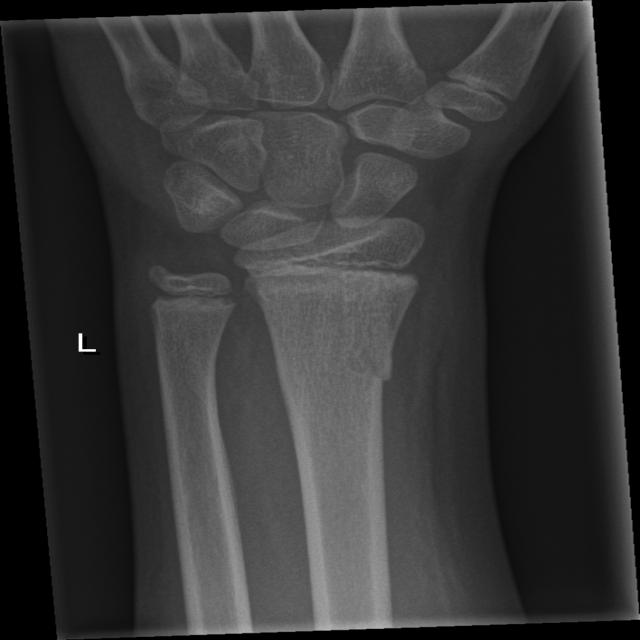radius fracture: (324, 311, 442, 461)
